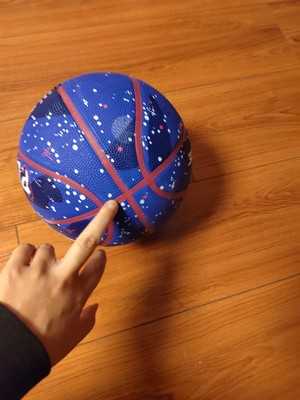ball: (16, 70, 194, 249)
